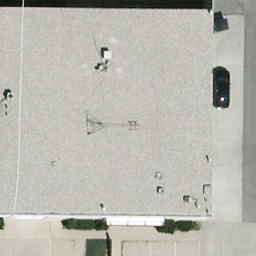car: (214, 67, 231, 109)
